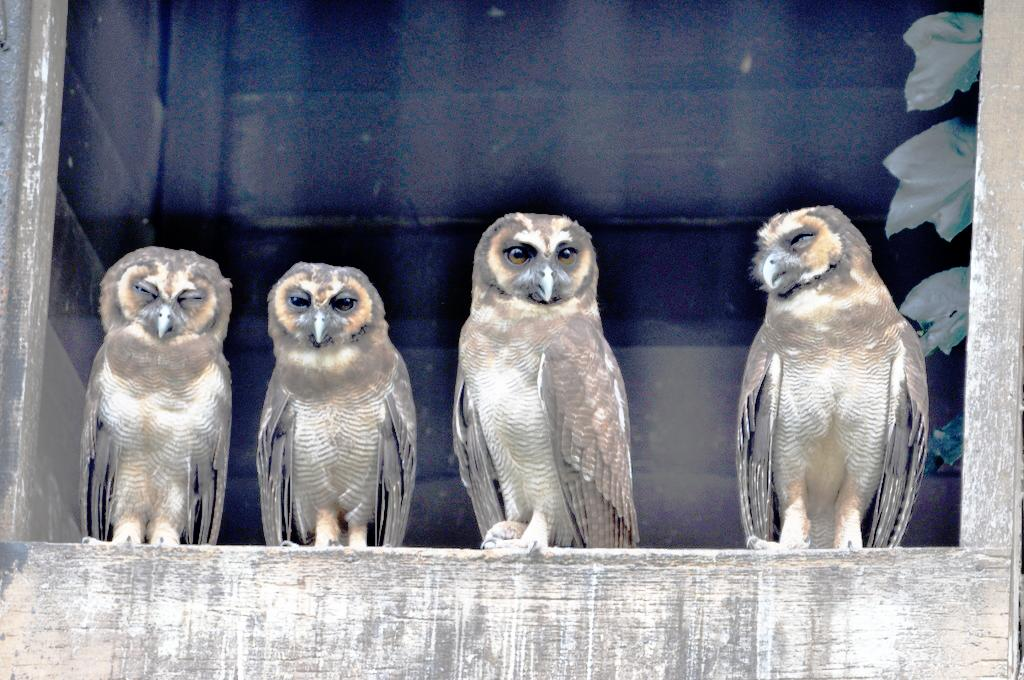Owl: (736, 205, 926, 549), (453, 205, 642, 548), (76, 243, 240, 552), (250, 262, 418, 552)
